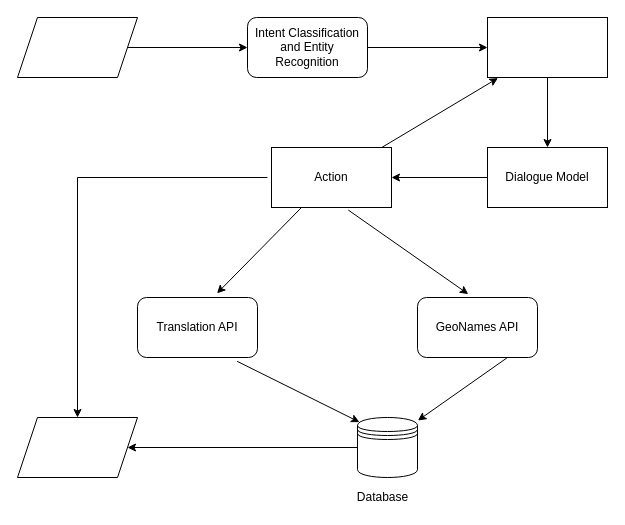
Image size: 625x525. Some labels were removed from this diagram. The centre of each missing label's shape, as x and y in pixels:
Dialogue State Tracker: the point at 547,47
Incoming Message: the point at 77,47
Output Message: the point at 77,447
